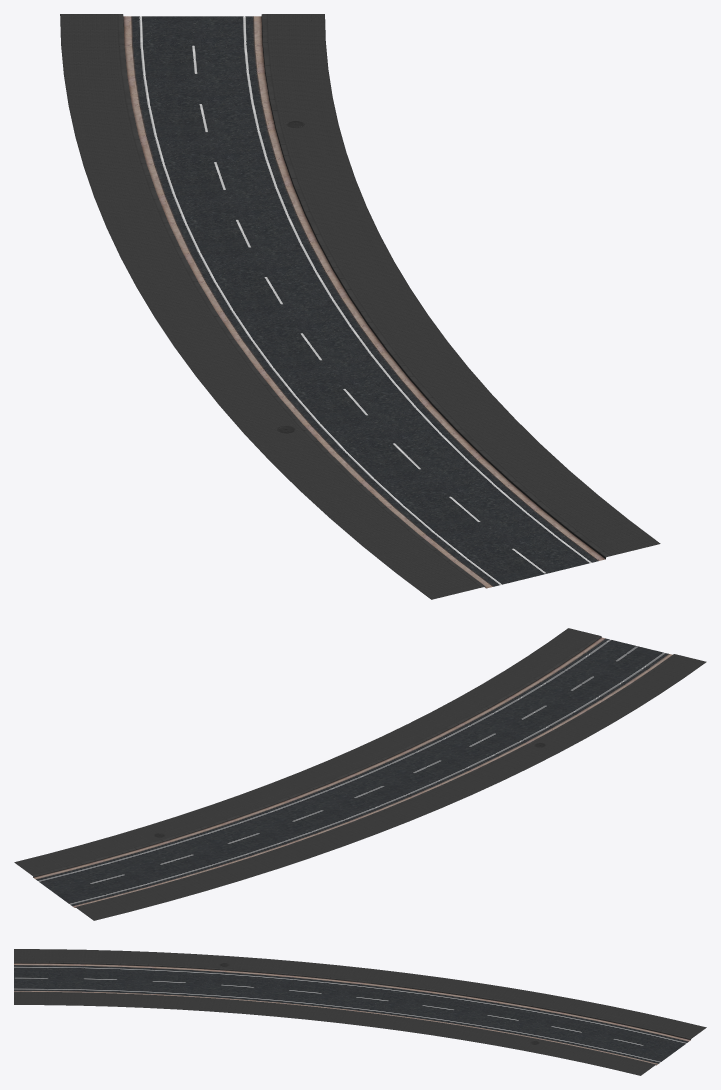
File: or_city_road_30right.fbx
3 renders of one model, top to bottom at view 1: azimuth 30°, elevation 25°; view 2: azimuth 150°, elevation 25°; view 3: azimuth 270°, elevation 25°, orthographic. The views are drawn at different scales.
Visible parts, largest first — view 1: obj0; view 2: obj0; view 3: obj0.
Part boxes in pixels (box(x1,y1,x2,y2)): obj0: box(60, 14, 660, 599); obj0: box(14, 628, 706, 920); obj0: box(14, 949, 706, 1075).
Bounding box in the file's own units: 66.25 × 0.254 × 153.
